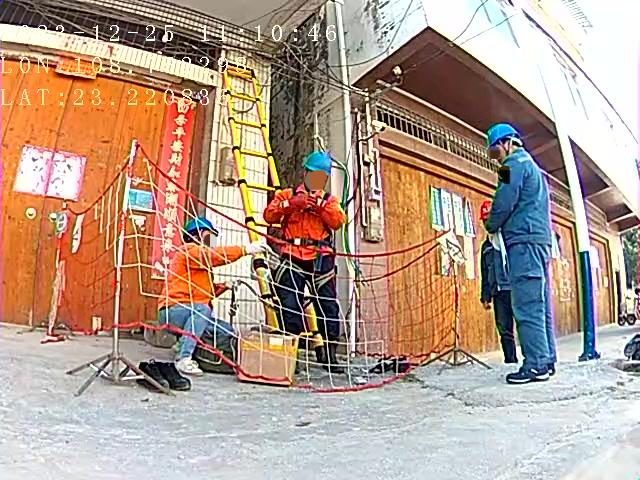halt: (489, 126, 527, 163), (303, 153, 336, 194), (188, 220, 222, 245)
inear: (501, 141, 517, 158)
